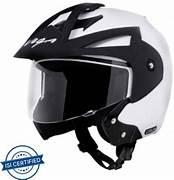Helmet: (14, 3, 171, 164)
